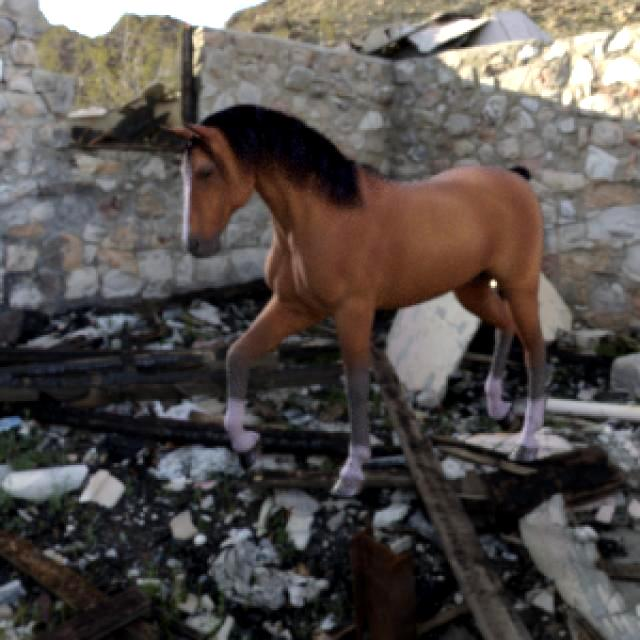horse: (174, 106, 545, 497)
